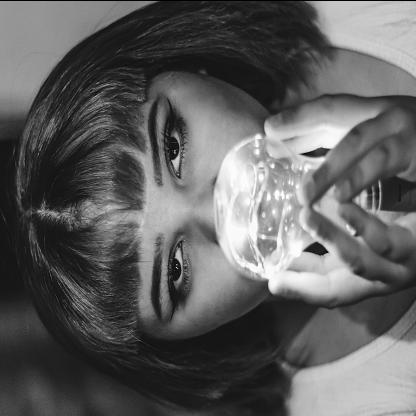Eye: (163, 107, 194, 188), (162, 232, 194, 306)
Nose: (191, 168, 222, 248)
